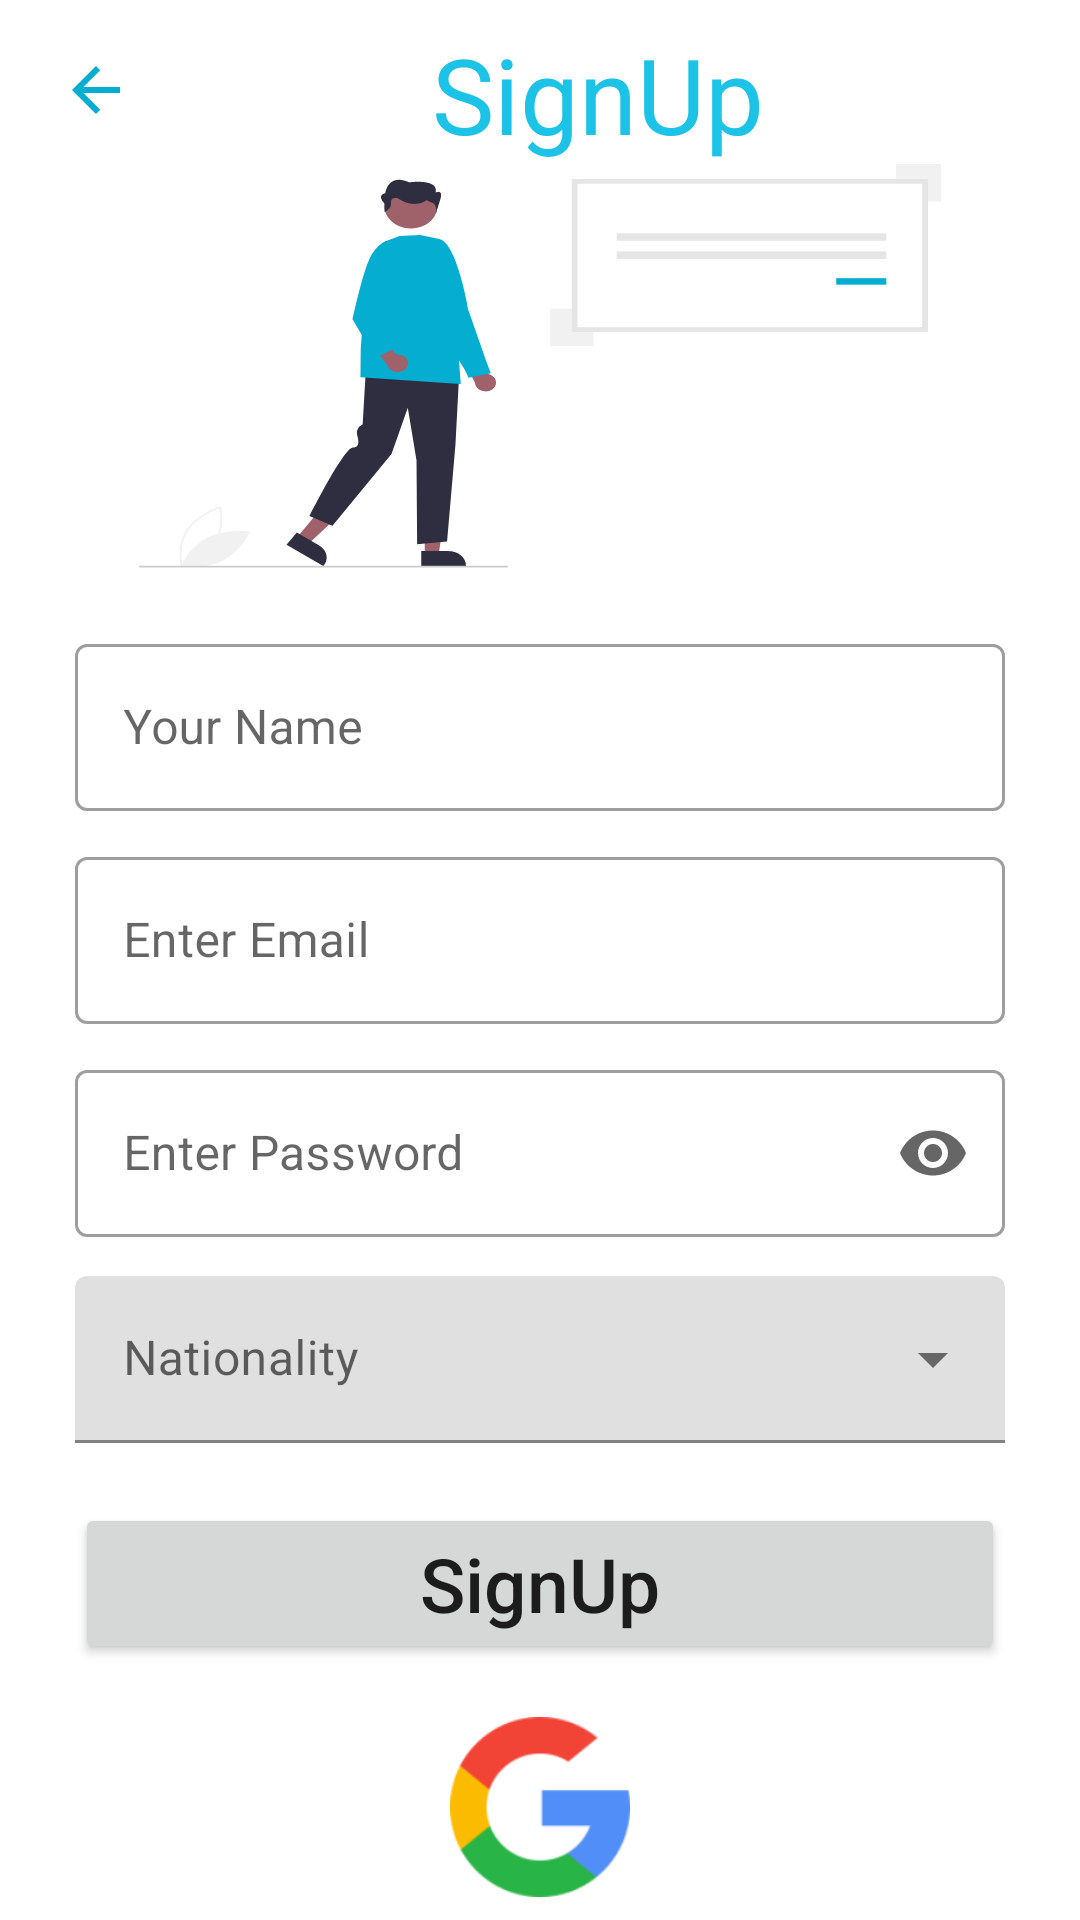

Named icons in this screenshot (1080 x 1920) and their centers, (x=x, y=y):
arrow back: (x=96, y=90)
